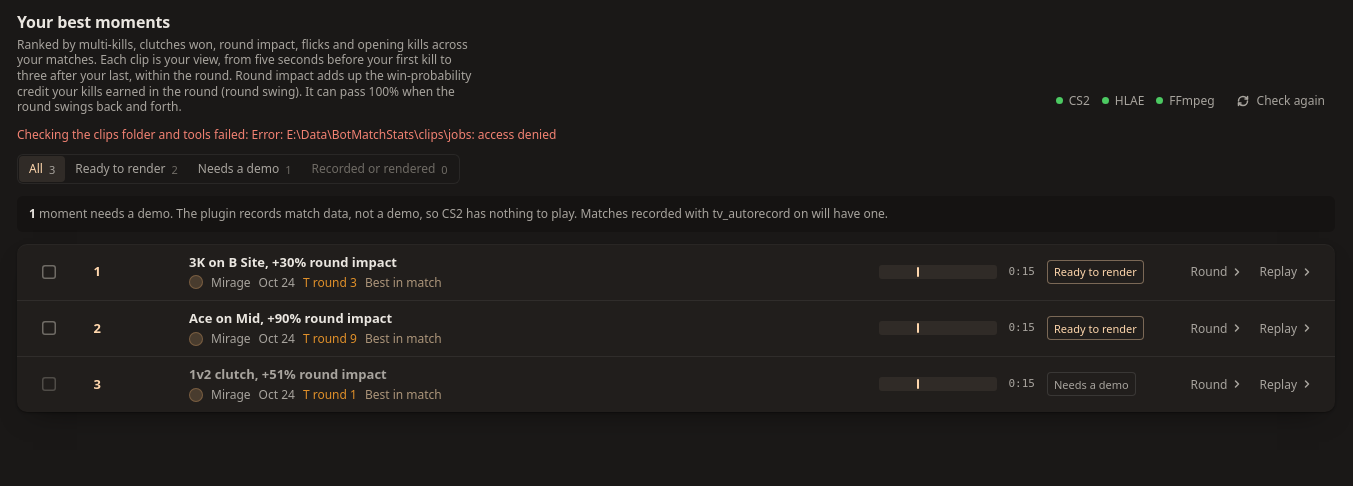
Test: the Clips page › stays the desktop app when the first scan fails, and says why at the top of the page
The image size is (1353, 486).
# the host is kept: ready moments can still be chosen and rendered, and Check again is there
What coordinates should you click on to do the following:
click the checkbox named "Choose 3K on B Site, +30% round impact, round 3 on Mirage"
I would click on:
 (49, 272)
Its box is [42,265,56,279].
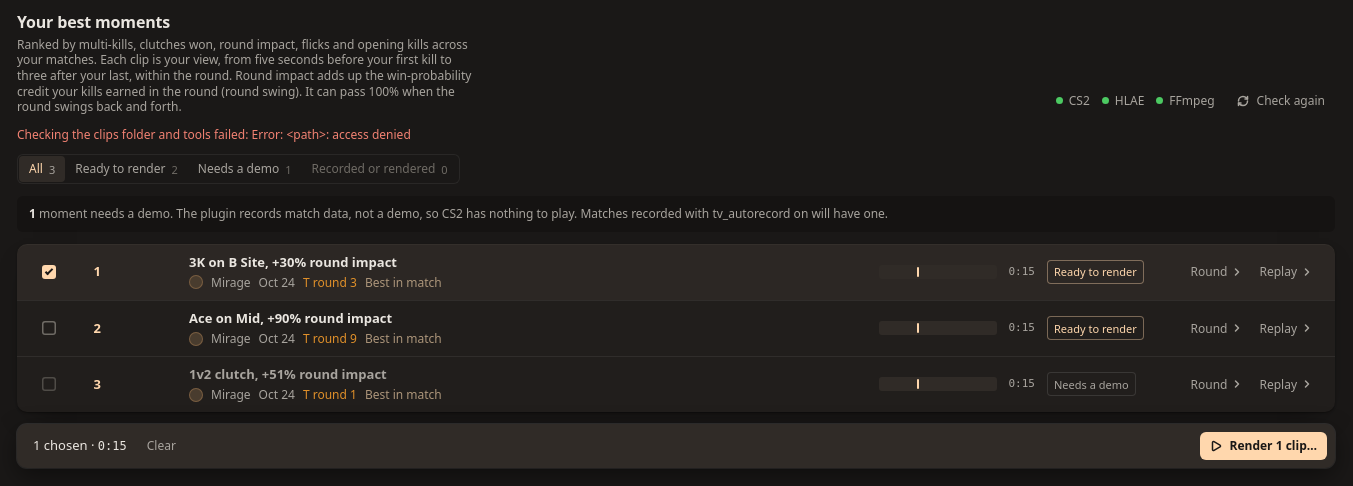
Expected: the button "Check again" is shown, [1227,87,1335,115]
Now the button "Render 1 clip…" is enabled, box [1200,432,1327,460]
